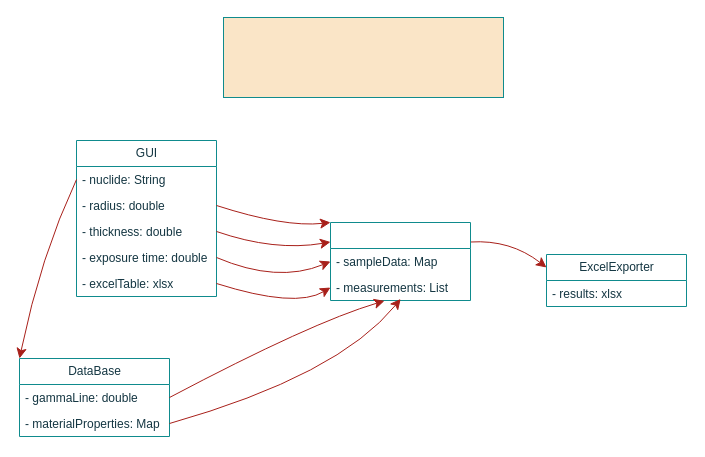
This 705x457 diagram has some shape labels left out. The box of each missing label's shape, as (x1, y1, x2, y2) in pixels:
Activation integral calculating app: (222, 16, 504, 98)
DataProcessor: (330, 222, 470, 300)
